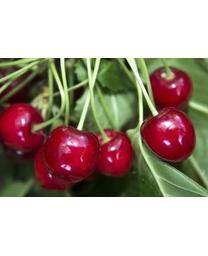cherry: (139, 106, 196, 163), (46, 124, 100, 182), (35, 136, 87, 191), (149, 65, 194, 114), (1, 103, 46, 152), (88, 128, 132, 177)
